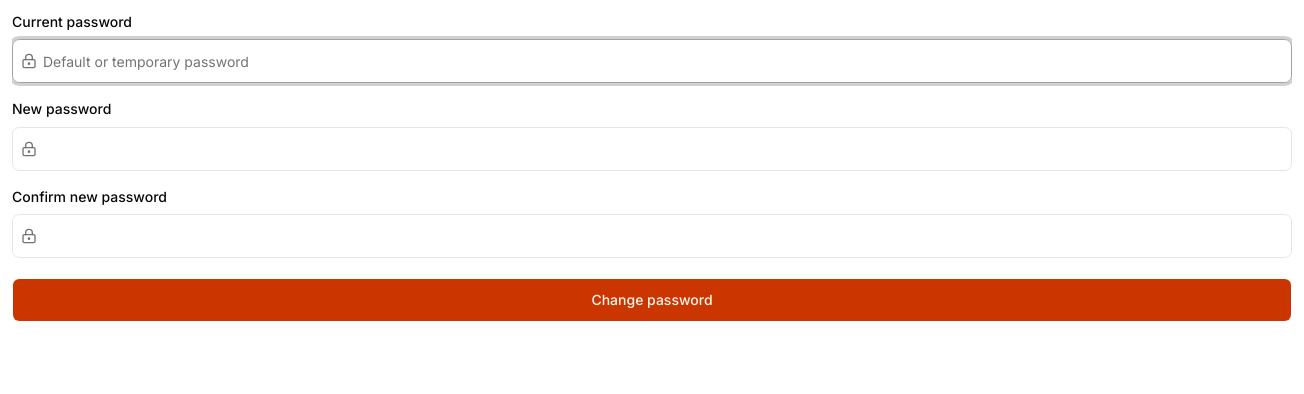
Test: ChangePasswordForm › checks length, reuse and confirmation before submitting
Type "Temp-password-1" into the password field labelled "Current password".
click(664, 61); type("Temp-password-1")  # box [37,45,1291,77]
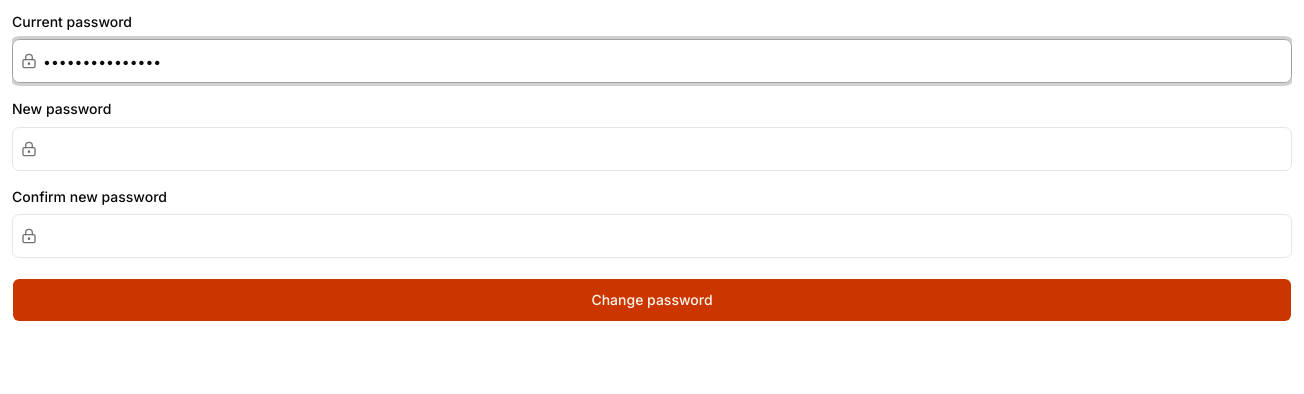
Type "short" into the password field labelled "New password".
click(664, 148); type("short")  # box [37,132,1291,164]
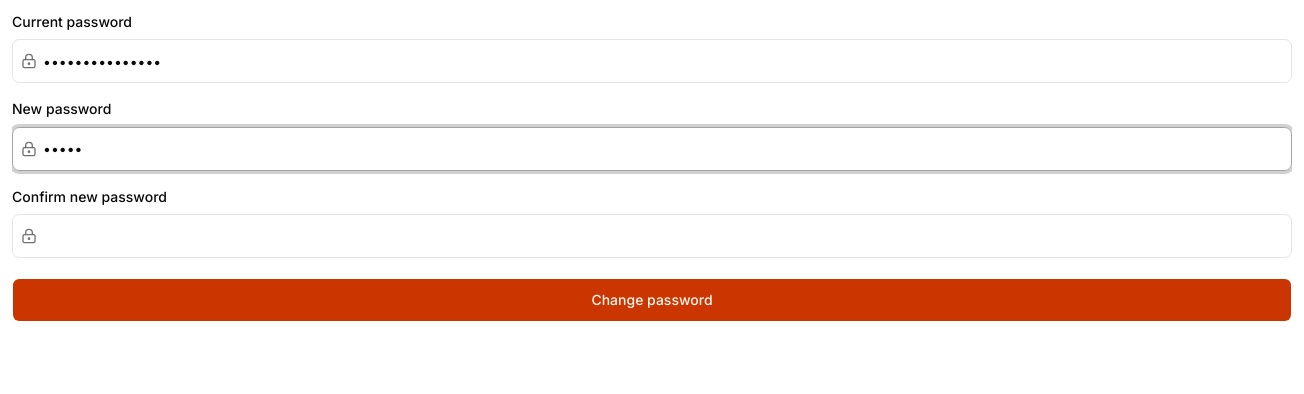
Type "other" into the password field labelled "Confirm new password".
click(664, 236); type("other")  # box [37,220,1291,252]
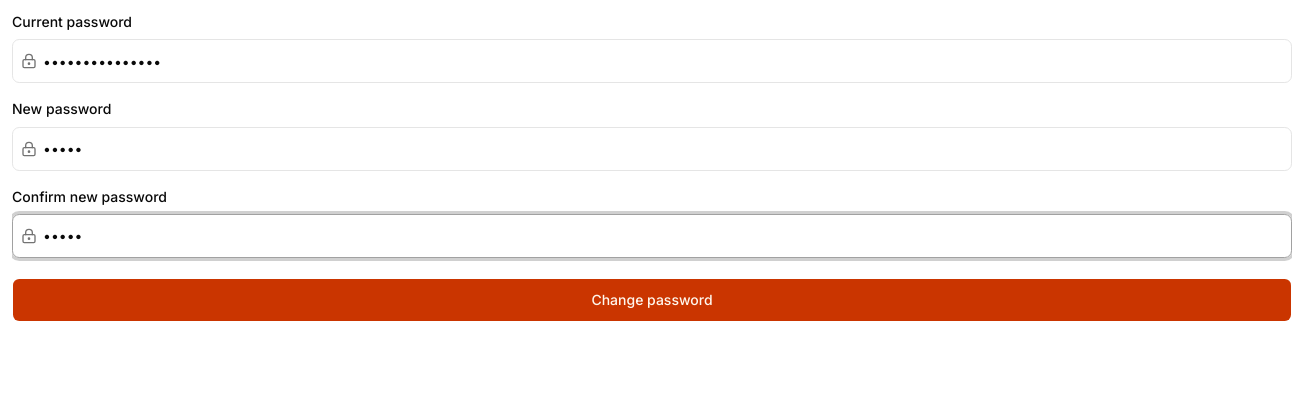
Click the button "Change password".
click(652, 300)  # box [12,278,1292,322]
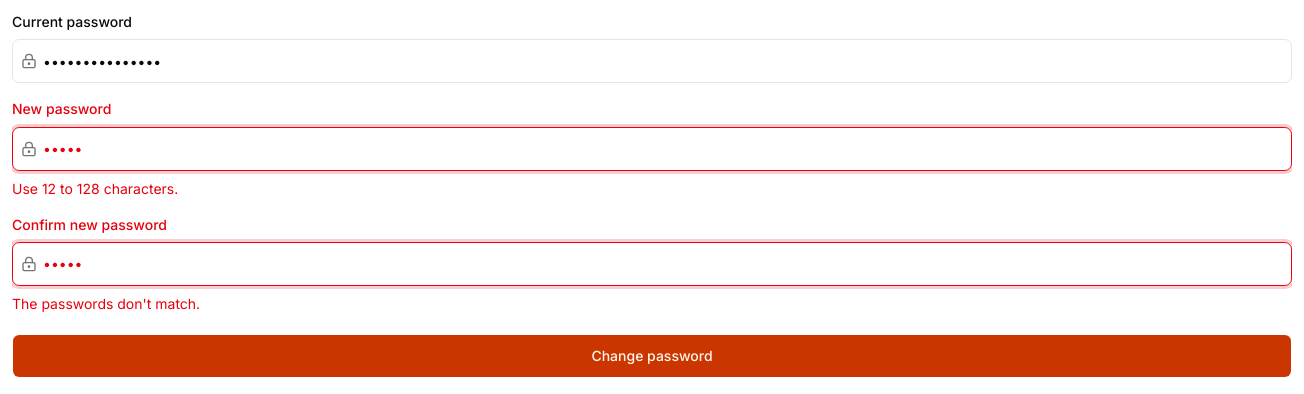
Now the text "Use 12 to 128 characters." is shown, box [12,180,178,196]
Now the text "The passwords don't match." is shown, box [12,295,200,312]
